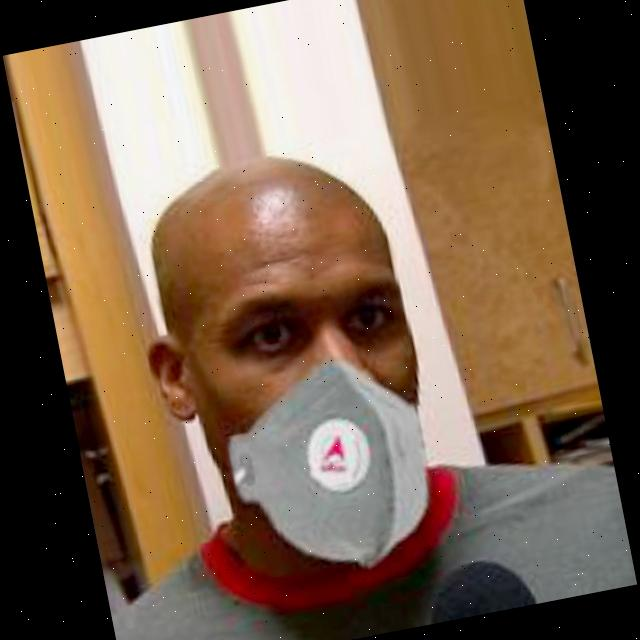suspicion: (128, 120, 460, 610)
